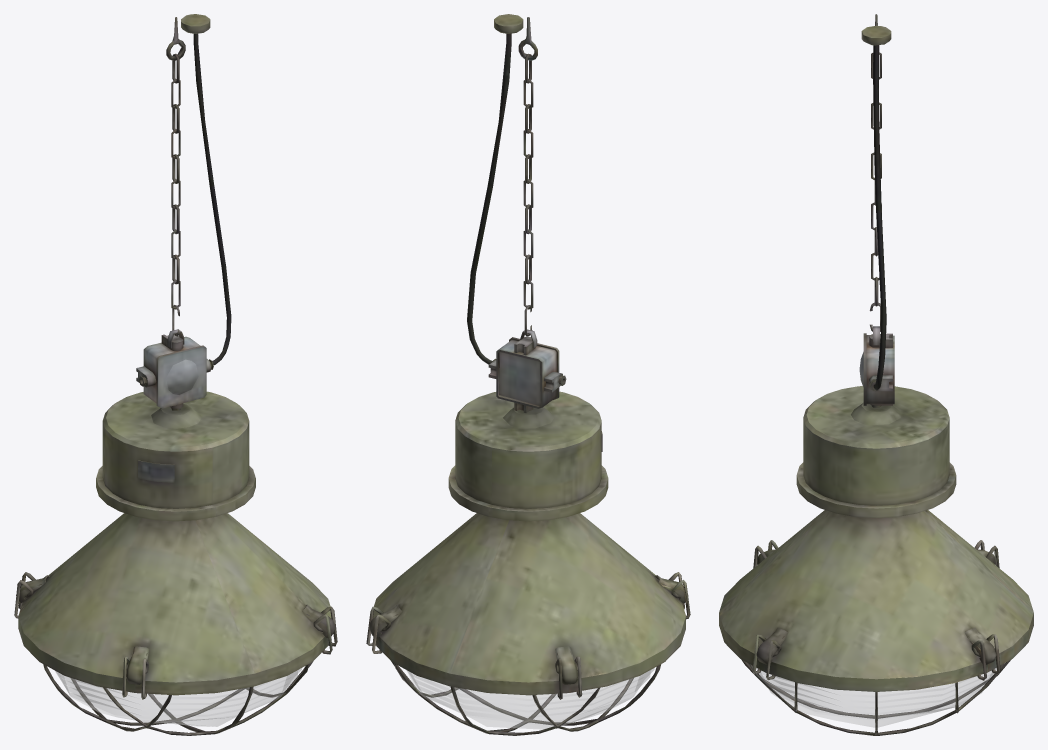
The model's file is lamp-pendant-industrial.lite.e0d80a7e.glb.
The picture shows the model from 3 angles, left to right: view 1: azimuth 30°, elevation 25°; view 2: azimuth 150°, elevation 25°; view 3: azimuth 270°, elevation 25°; orthographic projection.
Parts seen in each view (by area): view 1: model; view 2: model; view 3: model.
Part boxes in pixels (box(x1,y1,x2,y2)): model: box(14, 14, 337, 735); model: box(366, 14, 690, 735); model: box(719, 14, 1033, 735).
Bounding box in the file's own units: 0.5496 × 1.36 × 0.5496.
Materials: 2 (1 with a texture image).
